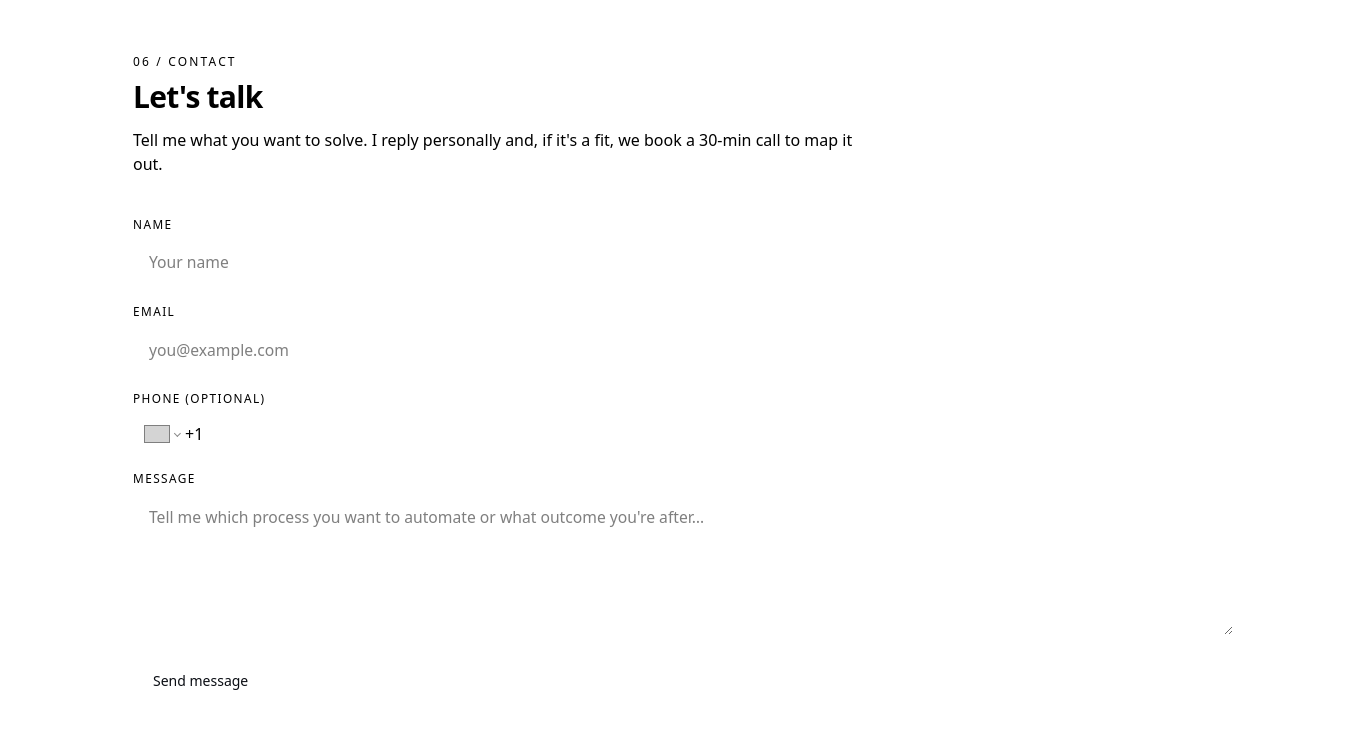
Test: Contact › shows validation errors and does not submit when fields are empty
Click the button "Send message". click: (201, 681)
box: top-left (133, 659), bottom-right (268, 703)
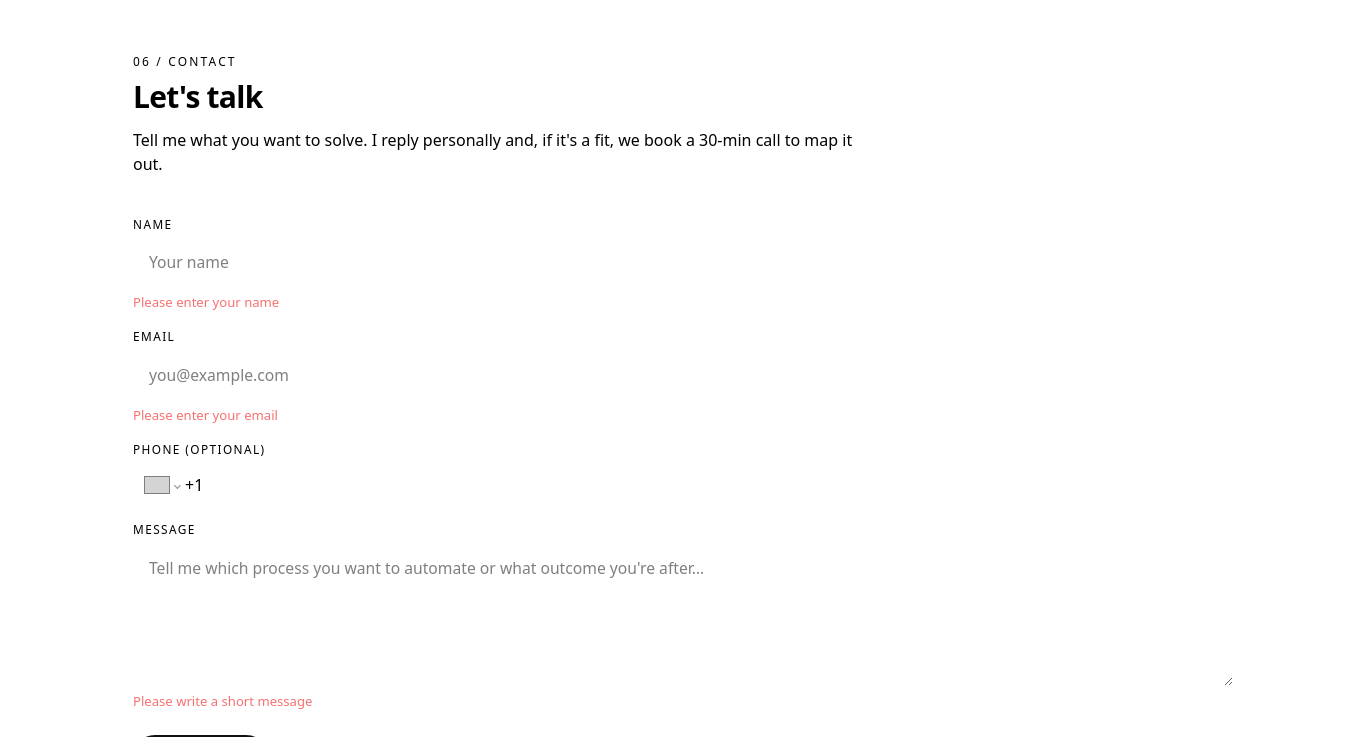
Expected: the text "Please enter your name" is shown, top-left (133, 293), bottom-right (279, 311)
Expected: the text "Please enter your email" is shown, top-left (133, 406), bottom-right (278, 424)
Expected: the text "Please write a short message" is shown, top-left (133, 692), bottom-right (312, 710)
